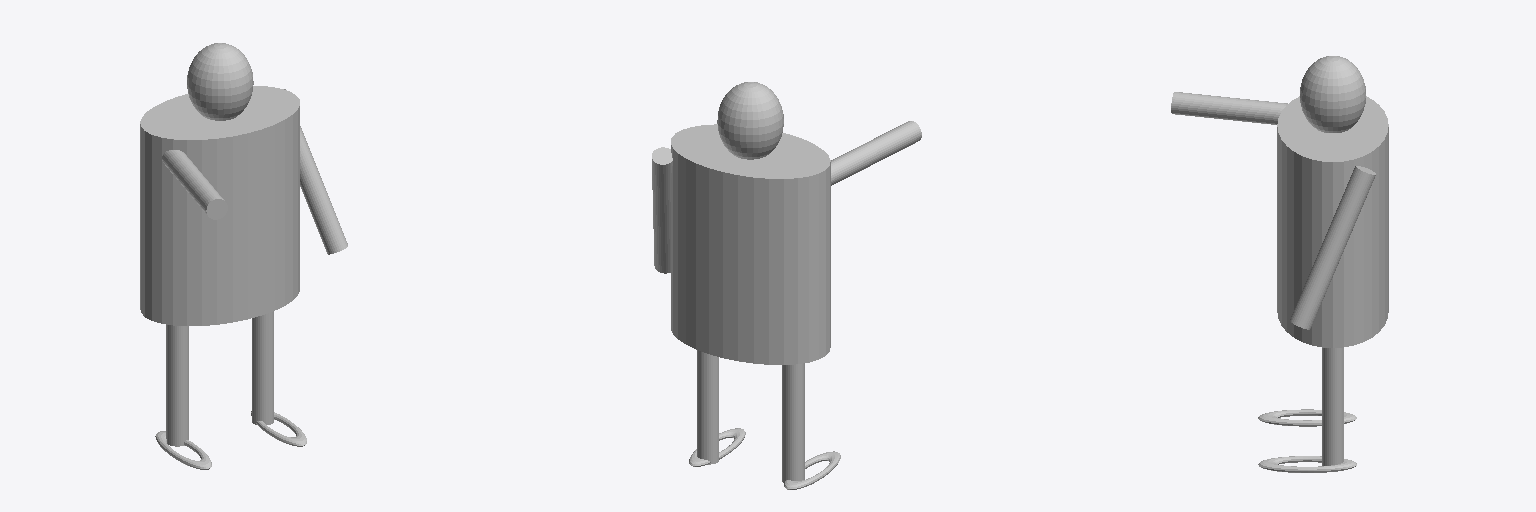
File: char1.obj
3 renders of one model, left to right at view 1: azimuth 30°, elevation 25°; view 2: azimuth 150°, elevation 25°; view 3: azimuth 270°, elevation 25°, orthographic.
Parts seen in each view (by area): view 1: Cylinder, Sphere, Cylinder.002, Cylinder.001, Cylinder.003, Cylinder.004, Torus, Torus.001; view 2: Cylinder, Sphere, Cylinder.002, Cylinder.001, Cylinder.003, Cylinder.004, Torus, Torus.001; view 3: Cylinder, Sphere, Cylinder.003, Cylinder.001, Cylinder.004, Torus.001, Torus.
Part boxes in pixels (x1,y1,x2,y2): Cylinder: (140,86,299,325); Sphere: (187,43,253,120); Cylinder.002: (166,325,188,446); Cylinder.001: (252,311,273,424); Cylinder.003: (284,89,347,254); Cylinder.004: (162,150,227,219); Torus: (155,431,211,469); Torus.001: (251,411,306,446); Cylinder: (671,124,830,364); Sphere: (717,82,783,159); Cylinder.002: (782,363,804,482); Cylinder.001: (697,350,718,464); Cylinder.003: (652,147,672,273); Cylinder.004: (831,121,921,185); Torus: (784,451,840,489); Torus.001: (689,428,745,466); Cylinder: (1277,96,1388,347); Sphere: (1300,56,1365,132); Cylinder.003: (1290,166,1375,329); Cylinder.001: (1322,348,1343,465); Cylinder.004: (1171,92,1287,124); Torus.001: (1258,456,1356,472); Torus: (1258,409,1356,426).
Size of the model in its own units: 4.22 by 7.66 by 3.9.